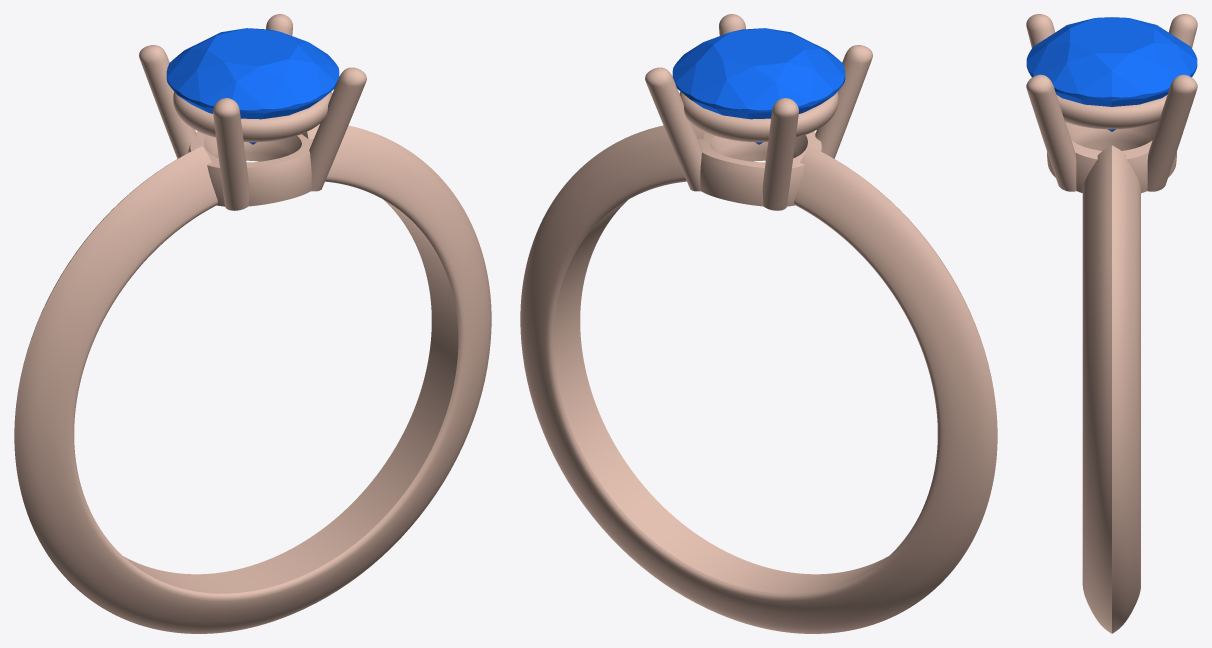
File: bluesapphire-round-rosegold-4prong-knifeedge-nosidestones.glb
3 renders of one model, left to right at view 1: azimuth 30°, elevation 25°; view 2: azimuth 150°, elevation 25°; view 3: azimuth 270°, elevation 25°, orthographic.
Parts seen in each view (by area): view 1: metal, stone; view 2: metal, stone; view 3: metal, stone.
Part boxes in pixels (bbox=[...]): metal: bbox=[14, 14, 491, 633]; stone: bbox=[166, 28, 339, 144]; metal: bbox=[520, 14, 997, 633]; stone: bbox=[672, 28, 845, 144]; metal: bbox=[1026, 14, 1197, 633]; stone: bbox=[1026, 17, 1197, 131].
Size of the model in its own units: 20.51 by 23.81 by 6.45.
